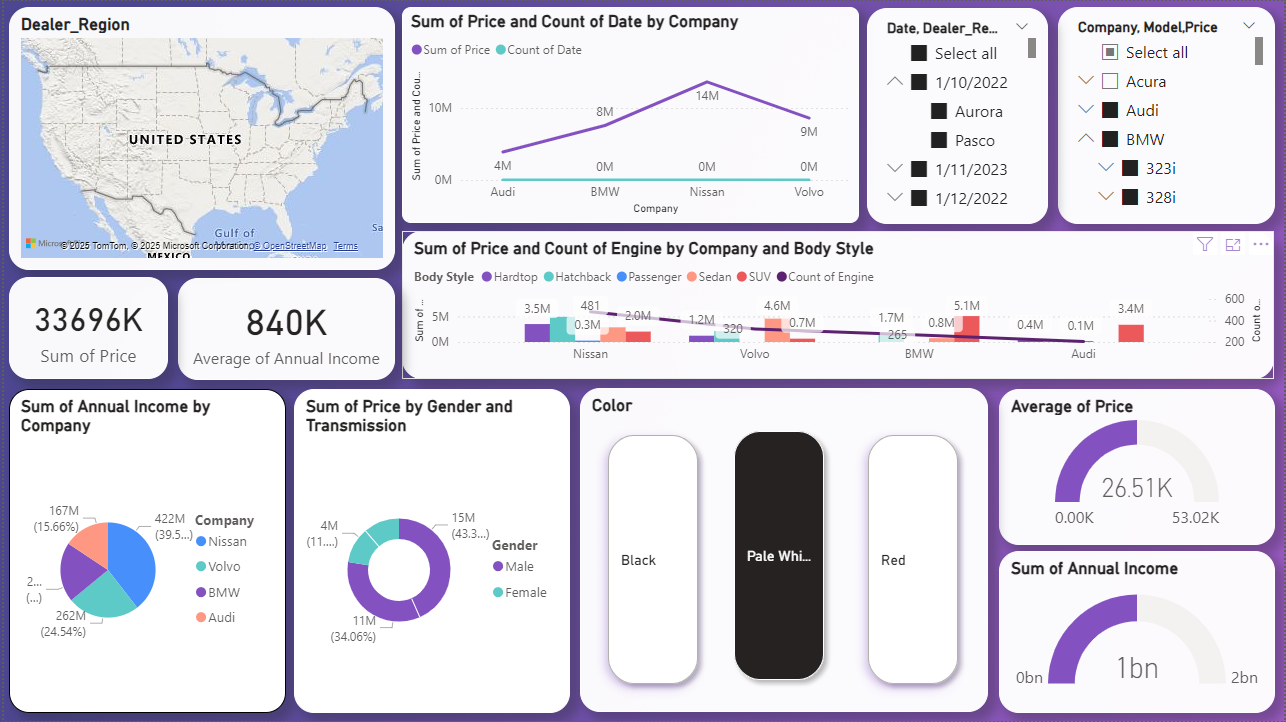

This screenshot's page, from the dashboard's own definition file:
{"tool":"powerbi","page":{"name":"Page 2","canvas":[1280,720],"ordinal":1},"visuals":[{"type":"filledMap","fields":{"Category":["Car Sales xlsx - car_data.Dealer_Region"]},"box":[4.5,6.4,386.4,262.7],"z":0},{"type":"slicer","fields":{"Values":["Car Sales xlsx - car_data.Company","Car Sales xlsx - car_data.Model","Car Sales xlsx - car_data.Price"]},"box":[1053,6,217,217],"z":1000},{"type":"lineChart","title":"Price and Count of Date by Company","fields":{"Category":["Car Sales xlsx - car_data.Company","Car Sales xlsx - car_data.Model"],"Y":["Sum(Car Sales xlsx - car_data.Price)","CountNonNull(Car Sales xlsx - car_data.Date)"]},"box":[398.2,6.4,457.3,215.5],"z":2000},{"type":"slicer","fields":{"Values":["Car Sales xlsx - car_data.Date","Car Sales xlsx - car_data.Dealer_Region"]},"box":[863.3,6.7,180.8,216.7],"z":3000},{"type":"lineClusteredColumnComboChart","title":"Price and Count of Engine by Company and Body Style","fields":{"Category":["Car Sales xlsx - car_data.Company"],"Series":["Car Sales xlsx - car_data.Body Style"],"Y":["Sum(Car Sales xlsx - car_data.Price)"],"Y2":["CountNonNull(Car Sales xlsx - car_data.Engine)"]},"box":[397.8,230,872.2,147.8],"z":4000},{"type":"card","fields":{"Values":["Avg(Car Sales xlsx - car_data.Annual Income)"]},"box":[174.4,276.7,216.7,102.2],"z":5000},{"type":"card","fields":{"Values":["Sum(Car Sales xlsx - car_data.Price ($))"]},"box":[4.5,276.4,159.1,101.8],"z":6000},{"type":"pieChart","title":"Annual Income by Company","fields":{"Category":["Car Sales xlsx - car_data.Company"],"Y":["Sum(Car Sales xlsx - car_data.Annual Income)"]},"box":[5.5,388.2,276.4,323.6],"z":7000},{"type":"donutChart","title":" Price by Gender and Transmission","fields":{"Category":["Car Sales xlsx - car_data.Gender"],"Series":["Car Sales xlsx - car_data.Transmission"],"Y":["Sum(Car Sales xlsx - car_data.Price)"]},"box":[290,388.2,276.4,323.6],"z":8000},{"type":"gauge","fields":{"Y":["Avg(Car Sales xlsx - car_data.Price)"]},"box":[994.5,388.2,276.4,155.5],"z":9000},{"type":"advancedSlicerVisual","fields":{"Values":["Car Sales xlsx - car_data.Color"]},"box":[575.6,386.7,408.9,324.4],"z":10000},{"type":"gauge","title":"Sum of Annual Income","fields":{"Y":["Sum(Car Sales xlsx - car_data.Annual Income)"]},"box":[994.5,550,276.4,161.8],"z":11000}]}

Visuals, with their boxes in screenshot pixels (x1, y1, x2, y2), scaled from the page's 1280x720 canvas onto the 1286x722 screenshot:
filledMap - Car Sales xlsx - car_data.Dealer_Region: 5 6 393 270
slicer - Car Sales xlsx - car_data.Company x Car Sales xlsx - car_data.Model: 1058 6 1276 224
"Price and Count of Date by Company" lineChart: 400 6 860 223
slicer - Car Sales xlsx - car_data.Date x Car Sales xlsx - car_data.Dealer_Region: 867 7 1049 224
"Price and Count of Engine by Company and Body Style" lineClusteredColumnComboChart: 400 231 1276 379
card - Avg(Car Sales xlsx - car_data.Annual Income): 175 277 393 380
card - Sum(Car Sales xlsx - car_data.Price ($)): 5 277 164 379
"Annual Income by Company" pieChart: 6 389 283 714
" Price by Gender and Transmission" donutChart: 291 389 569 714
gauge - Avg(Car Sales xlsx - car_data.Price): 999 389 1277 545
advancedSlicerVisual - Car Sales xlsx - car_data.Color: 578 388 989 713
"Sum of Annual Income" gauge: 999 552 1277 714
